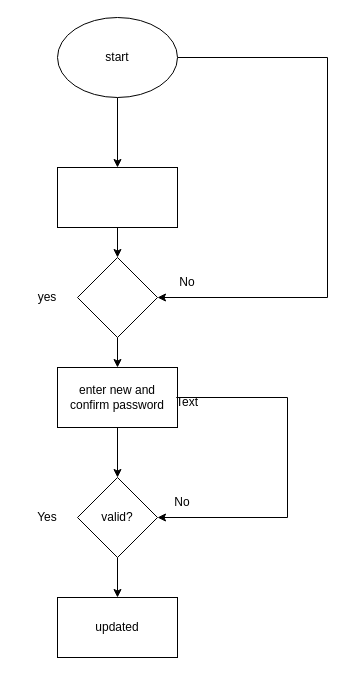
The diagram is 353 pixels wide and 675 high, and some of its shapes have lost their labels. The shapes that lost their labels are listed below. From the top down, each one's centre as x and y in pixels, then its label:
At (x=117, y=197): "enter current password".
At (x=117, y=297): "valid".
